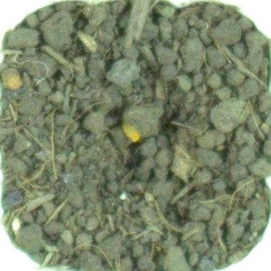chilli seed: (119, 113, 150, 145)
